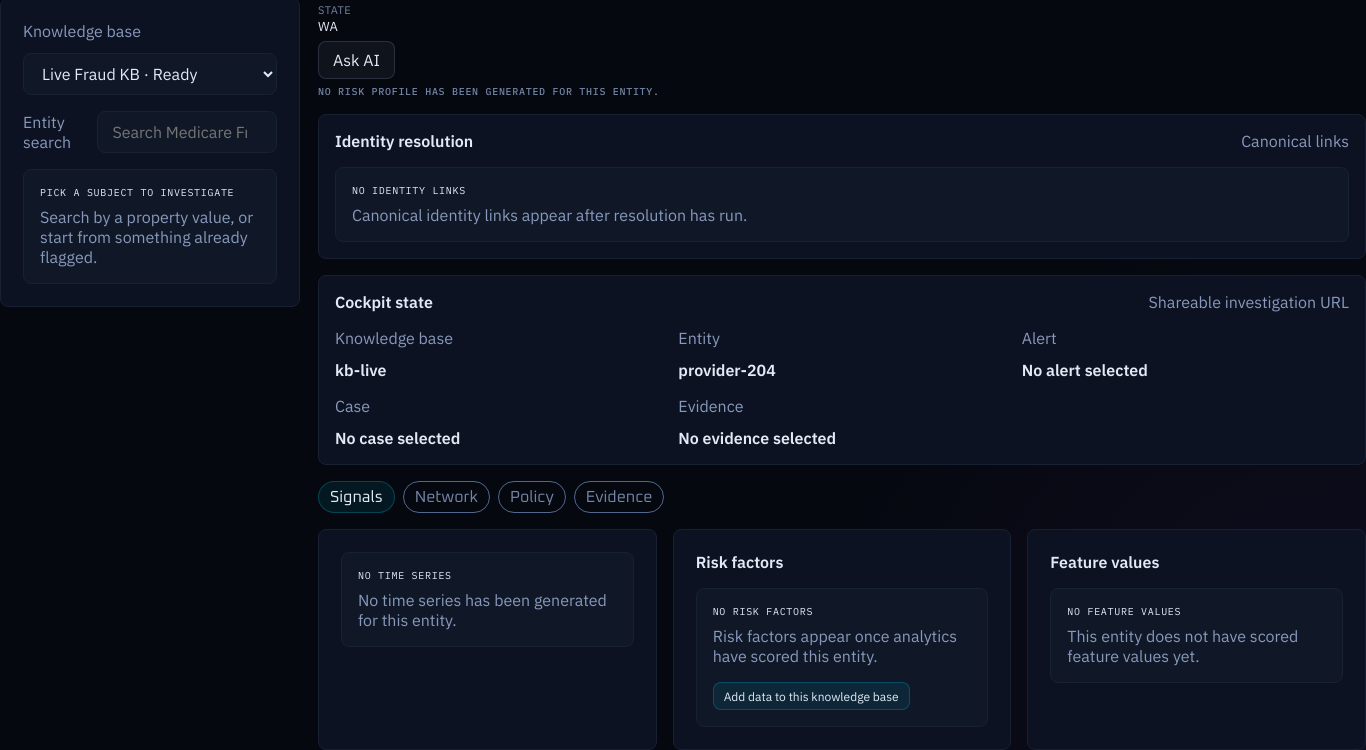
InvestigationWorkbenchPage › shows an evidence empty state linking to the Alert Feed when no pack is linked
(page scrolled)
Click the tab "Evidence" at (619, 497), box [574, 481, 664, 513]
(page scrolled)
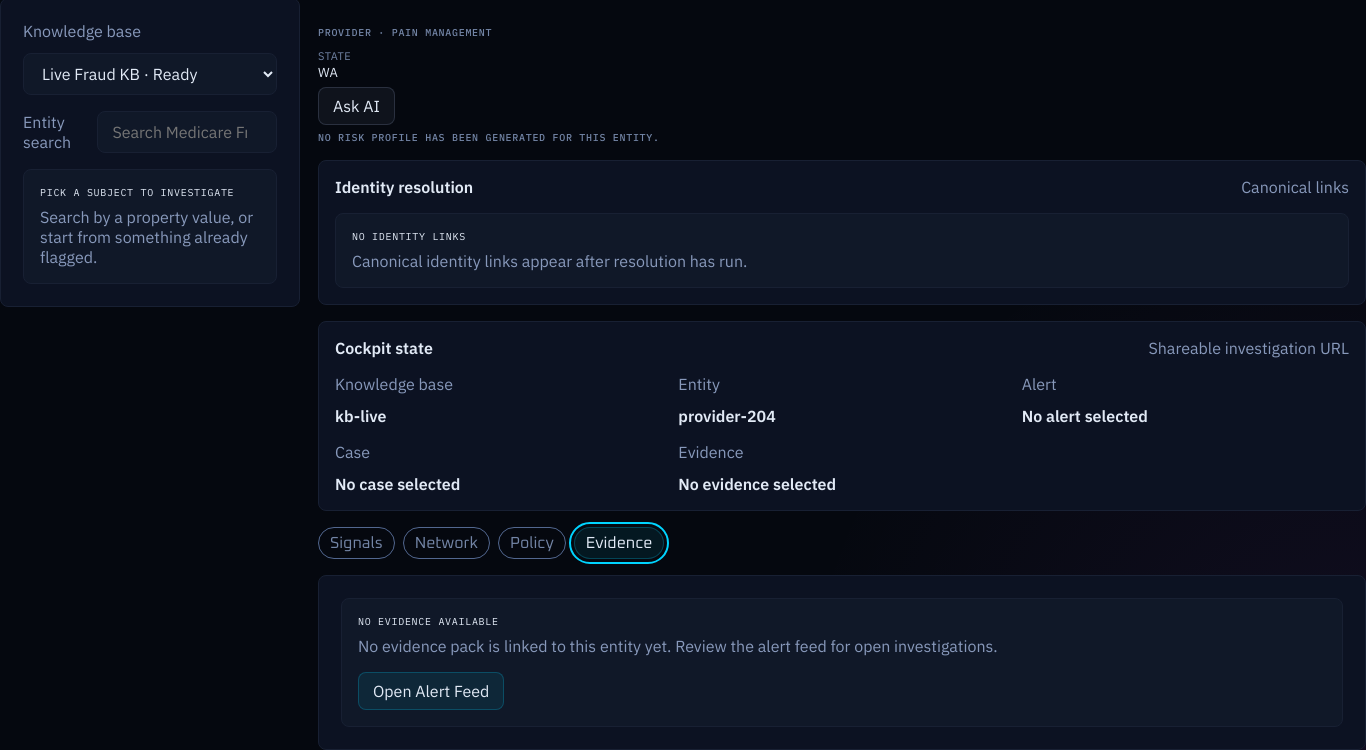
Now the text "No evidence available" is shown, box [358, 615, 499, 628]
